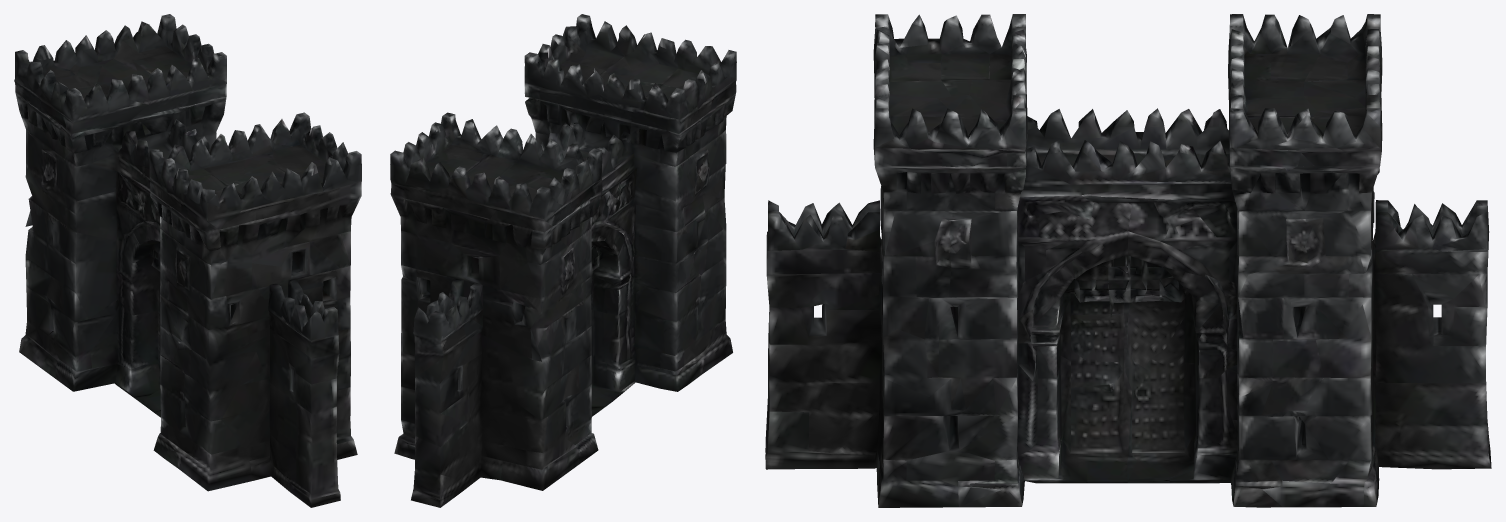
File: castle_gate_diamond_black.glb
3 views of the same model, side by side, from view 1: azimuth 30°, elevation 25°; view 2: azimuth 150°, elevation 25°; view 3: azimuth 270°, elevation 25° (orthographic). The views are drawn at different scales.
Visible parts, largest first — view 1: tripo_node_2309ad21-f497-4ac5-a074-b56a7fb2d04c; view 2: tripo_node_2309ad21-f497-4ac5-a074-b56a7fb2d04c; view 3: tripo_node_2309ad21-f497-4ac5-a074-b56a7fb2d04c.
Part boxes in pixels (box(x1,y1,x2,y2)): tripo_node_2309ad21-f497-4ac5-a074-b56a7fb2d04c: box(14, 14, 361, 507); tripo_node_2309ad21-f497-4ac5-a074-b56a7fb2d04c: box(390, 14, 736, 507); tripo_node_2309ad21-f497-4ac5-a074-b56a7fb2d04c: box(765, 14, 1491, 507).
Size of the model in its own units: 0.3212 by 0.5923 by 0.9772.
1 material, 1 textured.
